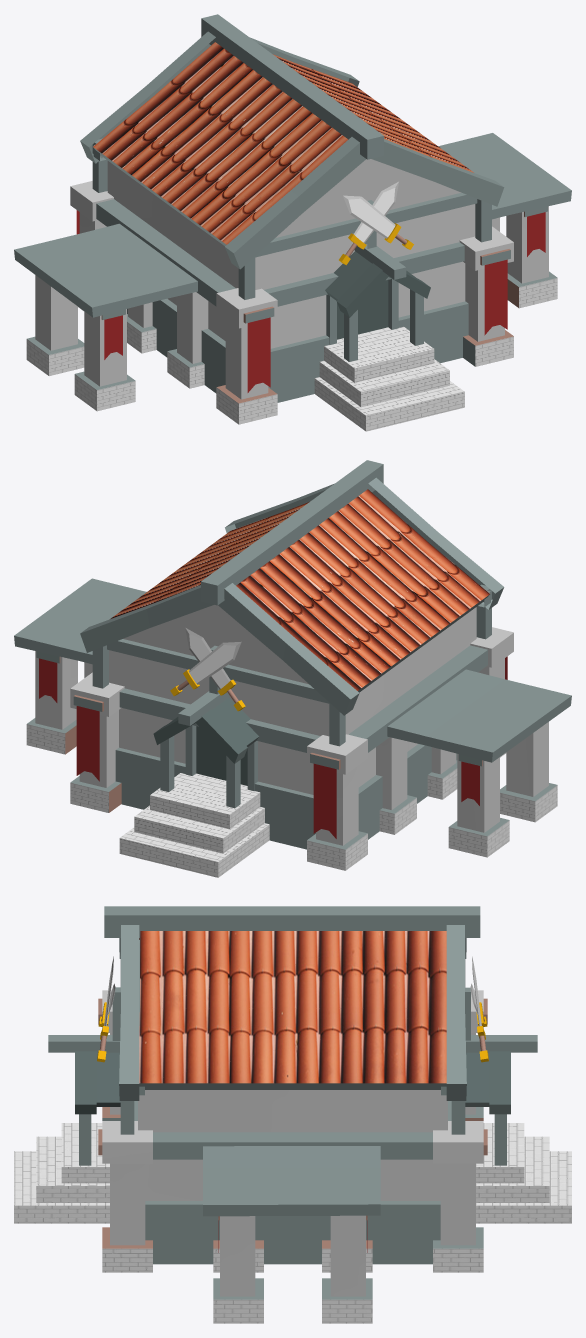
The model's file is nha character.fbx.
The picture shows the model from 3 angles, top to bottom: view 1: azimuth 30°, elevation 25°; view 2: azimuth 150°, elevation 25°; view 3: azimuth 270°, elevation 25°; orthographic projection. The views are drawn at different scales.
Visible parts, largest first — view 1: Barracks_FirstAge_Level2; view 2: Barracks_FirstAge_Level2; view 3: Barracks_FirstAge_Level2.
Part boxes in pixels (box(x1,y1,x2,y2)): Barracks_FirstAge_Level2: box(14, 14, 571, 431); Barracks_FirstAge_Level2: box(14, 460, 571, 877); Barracks_FirstAge_Level2: box(14, 906, 571, 1323).
Bounding box in the file's own units: 176 × 88.6 × 157.
Materials: 1 (1 with a texture image).
